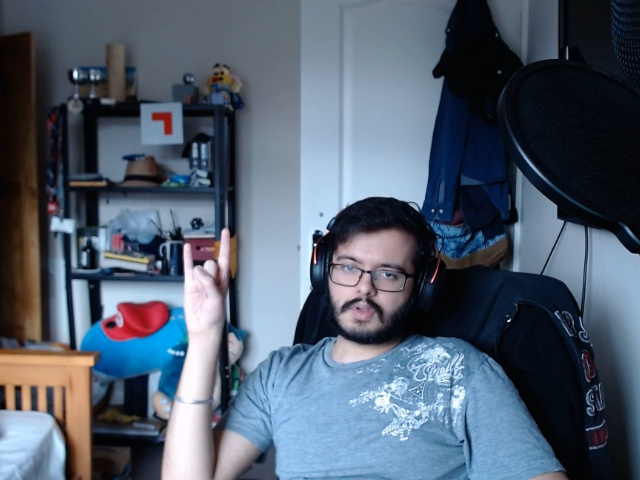Rock on: (172, 221, 242, 352)
